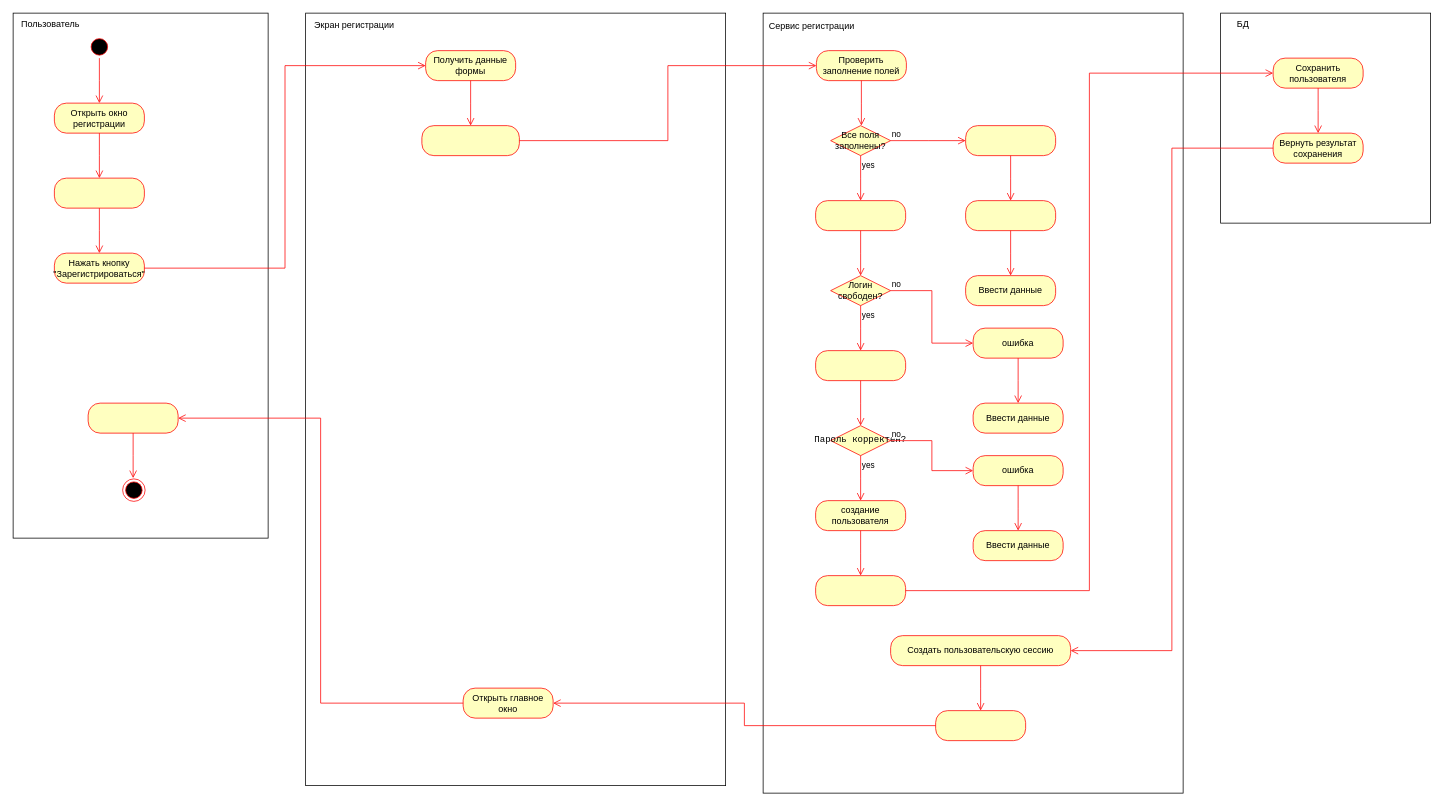
Image size: 1444x806. Some labels were removed from this diagram. The shapes that lost their labels are listed below. From the top down, each one's centre as x and y in pixels, then its label:
At (x=470, y=140): "Передать данные в сервис регистрации".
At (x=1010, y=140): "Показать ошибку".
At (x=99, y=192): "Ввести данные (логин, пароль, имя)".
At (x=860, y=215): "Проверить уникальность логина".
At (x=1010, y=215): "Повторный ввод данных".
At (x=860, y=365): "Проверить пароль".
At (x=132, y=417): "Аккаунт создан".
At (x=860, y=590): "Хэшировать пароль".
At (x=980, y=725): "Вернуть успешный результат".
